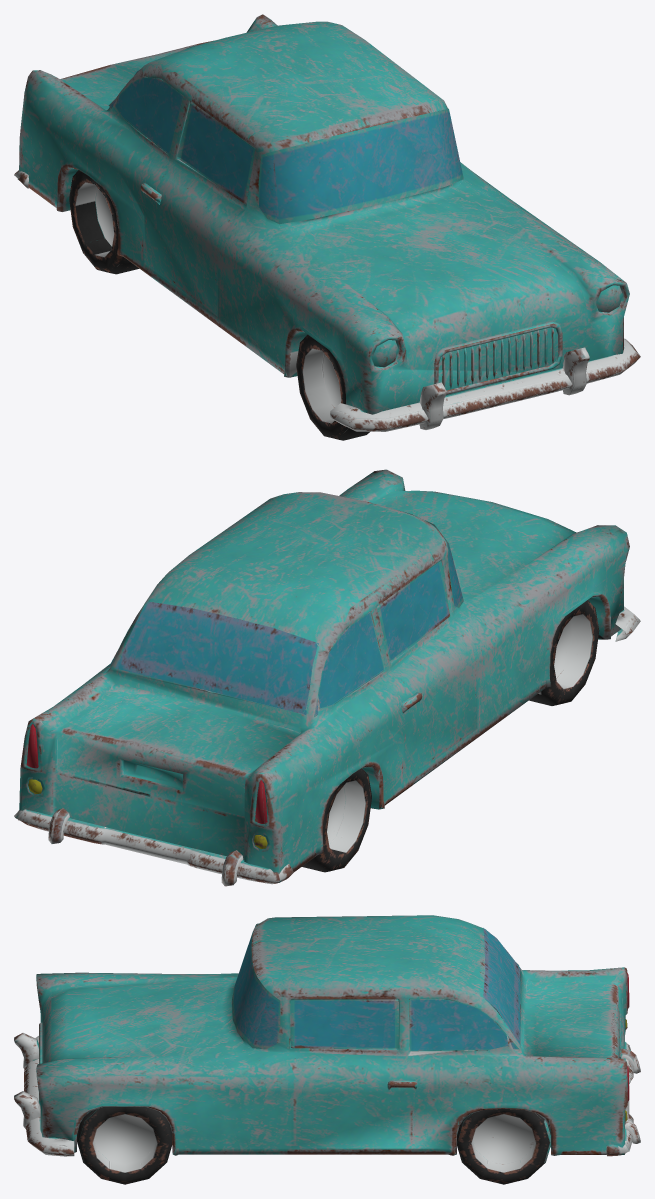
The model's file is car.glb.
3 renders of one model, top to bottom at view 1: azimuth 30°, elevation 25°; view 2: azimuth 150°, elevation 25°; view 3: azimuth 270°, elevation 25°, orthographic. The views are drawn at different scales.
Visible parts, largest first — view 1: Object_2; view 2: Object_2; view 3: Object_2.
Boxes of the visible parts, x1,y1,x2,y2 form: Object_2: (14, 14, 640, 440); Object_2: (14, 469, 640, 886); Object_2: (14, 915, 640, 1184).
Size of the model in its own units: 5.93 by 4.4 by 12.93.
1 material, 1 textured.
